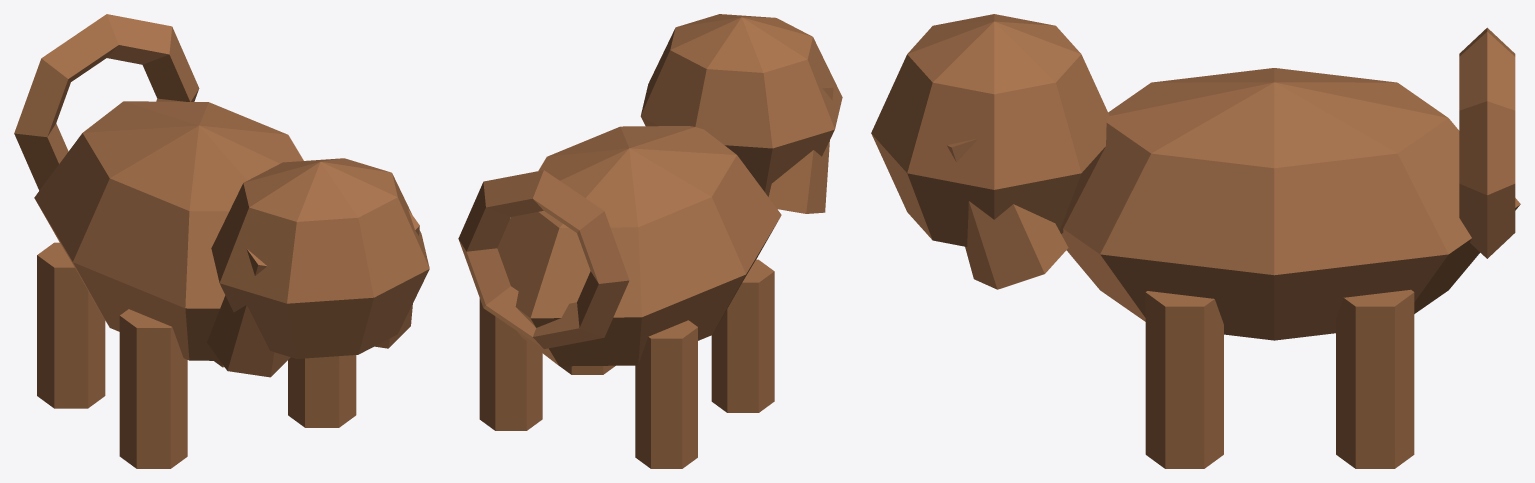
File: dog.glb
The picture shows the model from 3 angles, left to right: view 1: azimuth 30°, elevation 25°; view 2: azimuth 150°, elevation 25°; view 3: azimuth 270°, elevation 25°; orthographic projection. The views are drawn at different scales.
Visible parts, largest first — view 1: dog; view 2: dog; view 3: dog.
Boxes of the visible parts, x1=… form: dog: x1=14, y1=14, x2=429, y2=468; dog: x1=458, y1=14, x2=842, y2=468; dog: x1=871, y1=14, x2=1520, y2=468.
Size of the model in its own units: 0.3158 by 0.4 by 0.6105.
